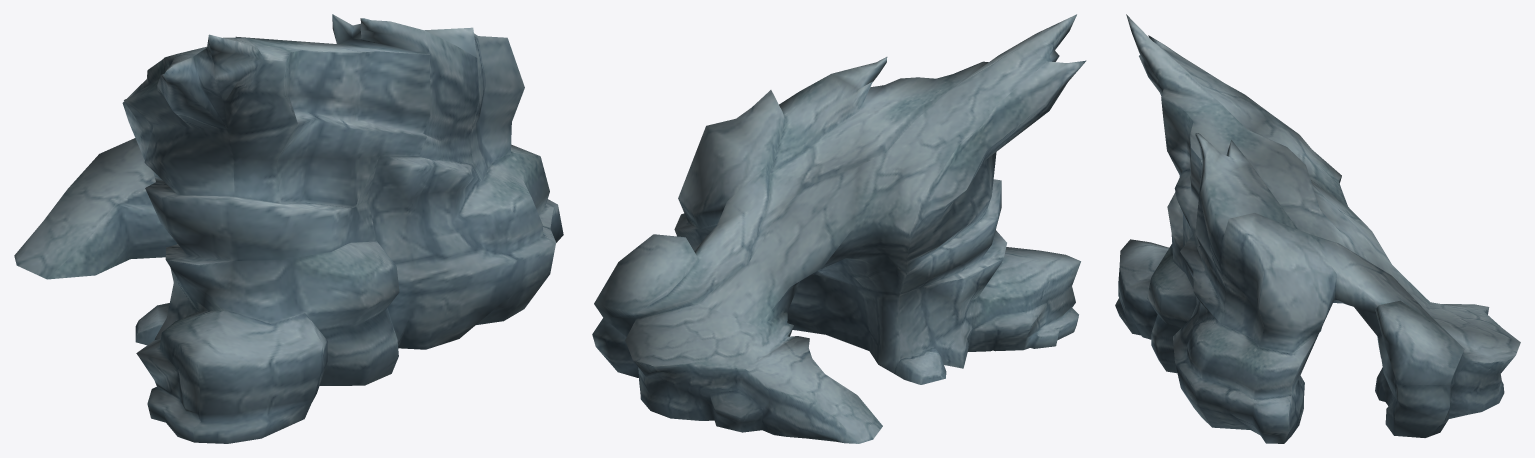
Rendered from yanshi11_1.FBX.
3 renders of one model, left to right at view 1: azimuth 30°, elevation 25°; view 2: azimuth 150°, elevation 25°; view 3: azimuth 270°, elevation 25°, orthographic. The views are drawn at different scales.
Parts seen in each view (by area): view 1: yanshi11_1; view 2: yanshi11_1; view 3: yanshi11_1.
Boxes of the visible parts, x1,y1,x2,y2 form: yanshi11_1: (14, 14, 563, 443); yanshi11_1: (592, 14, 1086, 443); yanshi11_1: (1115, 14, 1520, 443).
Size of the model in its own units: 1247 by 1022 by 1313.
